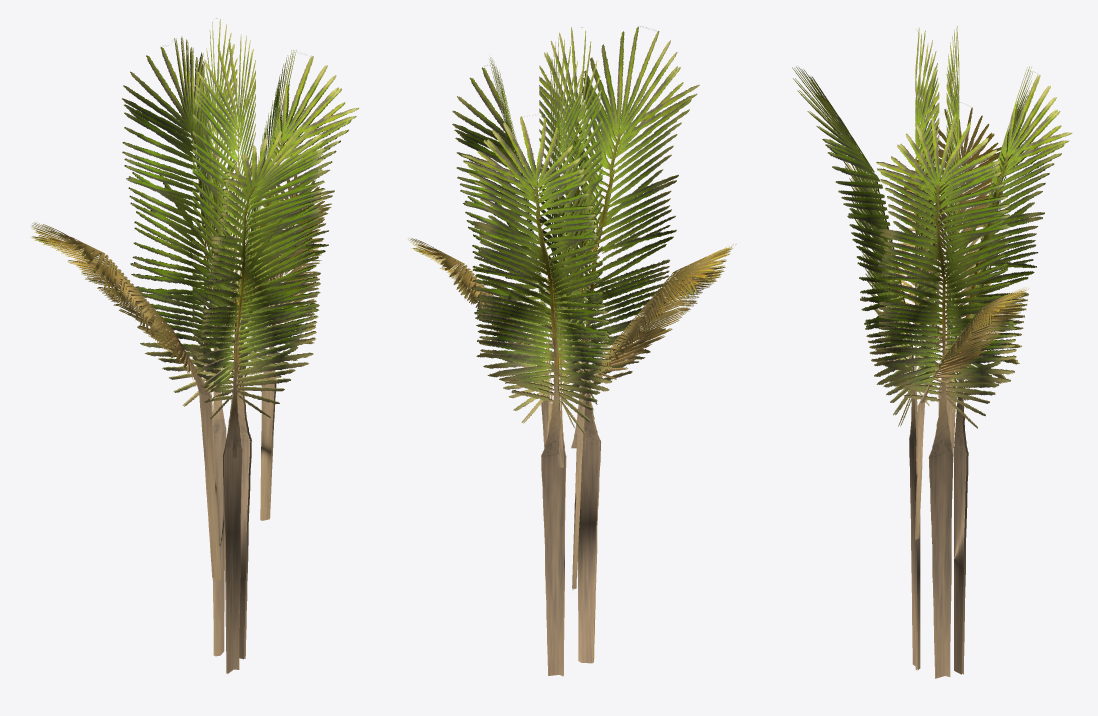
File: palm_nipa_1.glb
3 views of the same model, side by side, from view 1: azimuth 30°, elevation 25°; view 2: azimuth 150°, elevation 25°; view 3: azimuth 270°, elevation 25° (orthographic).
Parts seen in each view (by area): view 1: palm_nipa_1; view 2: palm_nipa_1; view 3: palm_nipa_1.
Boxes of the visible parts, x1,y1,x2,y2 form: palm_nipa_1: (30, 18, 359, 673); palm_nipa_1: (408, 26, 736, 676); palm_nipa_1: (792, 26, 1072, 678).
Size of the model in its own units: 5.02 by 9.65 by 3.95.
Materials: 1 (1 with a texture image).
